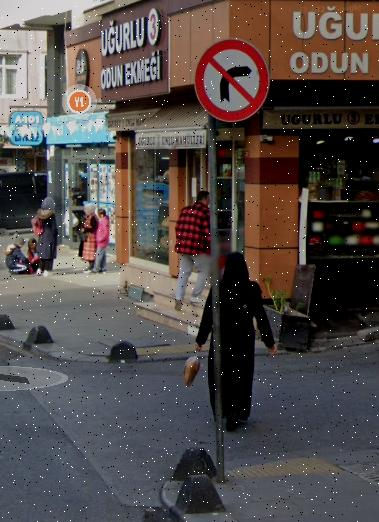rightturnsareforbidden: (196, 36, 267, 121)
